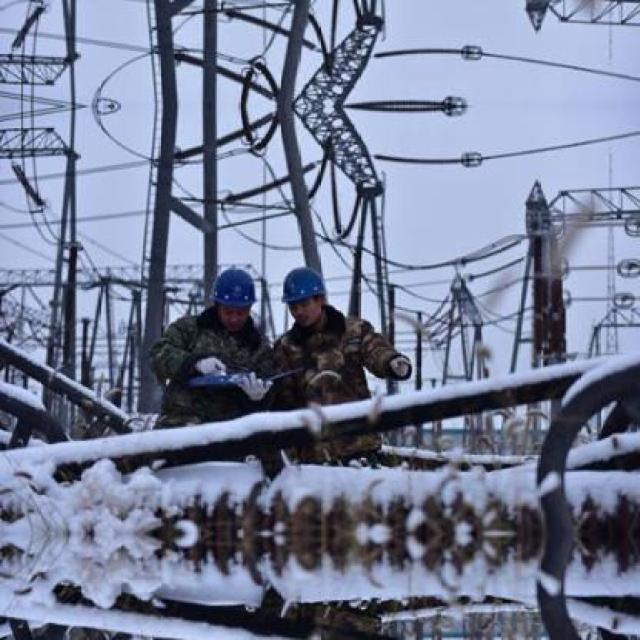helmet: (277, 253, 335, 315), (209, 262, 266, 315)
